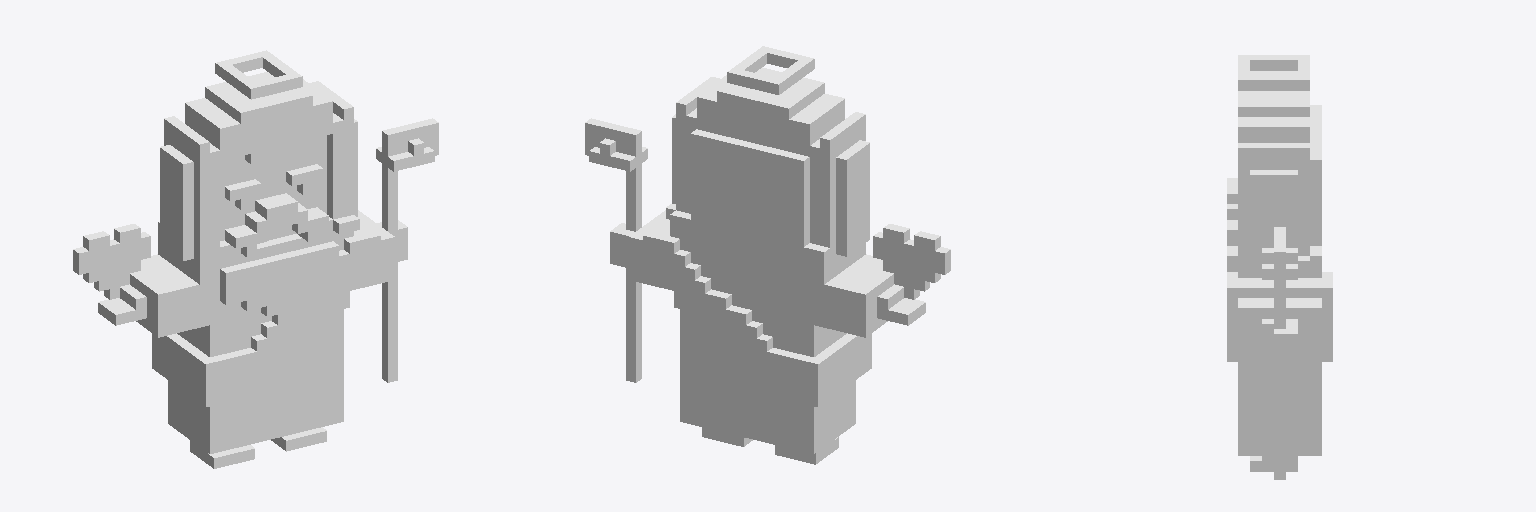
File: jesus.obj
3 views of the same model, side by side, from view 1: azimuth 30°, elevation 25°; view 2: azimuth 150°, elevation 25°; view 3: azimuth 270°, elevation 25° (orthographic).
Parts seen in each view (by area): view 1: object 1; view 2: object 1; view 3: object 1.
Part boxes in pixels (x1,y1,x2,y2): object 1: (73,50,438,468); object 1: (585,46,950,464); object 1: (1227,55,1332,479).
Bounding box in the file's own units: 3.5 × 3.5 × 0.9.